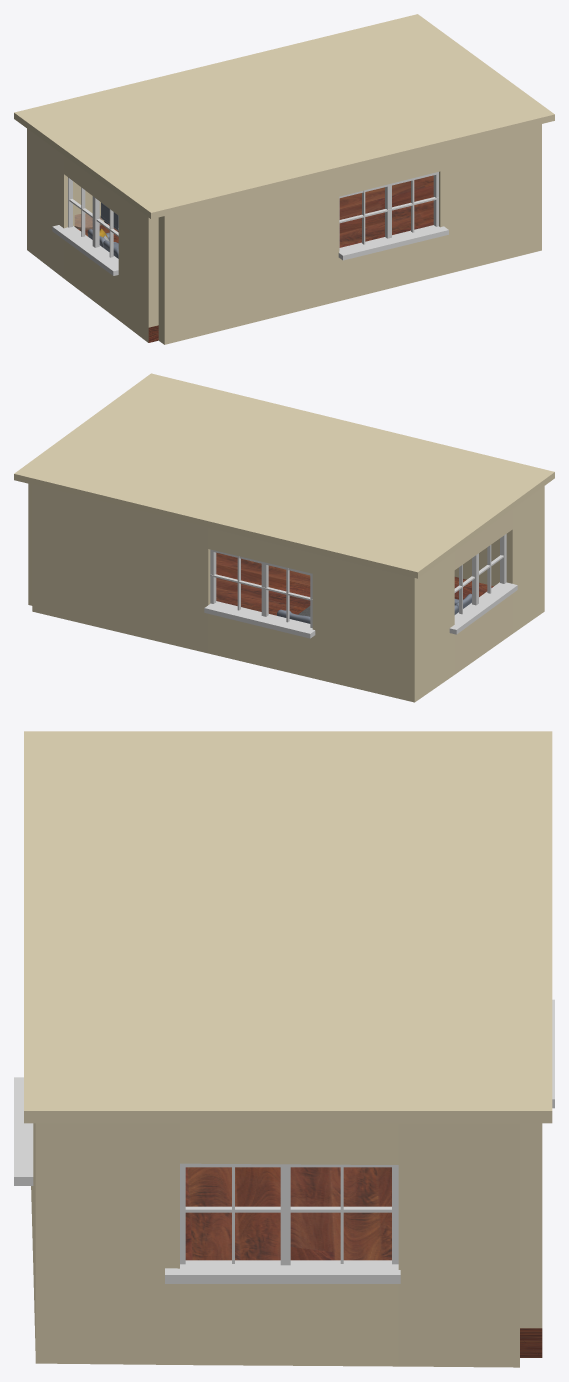
File: simple-room_01.glb
3 views of the same model, one above another, from view 1: azimuth 30°, elevation 25°; view 2: azimuth 150°, elevation 25°; view 3: azimuth 270°, elevation 25° (orthographic). The views are drawn at different scales.
Visible parts, largest first — view 1: Cube, Cube.010, Cube.006; view 2: Cube.006, Cube, Cube.010; view 3: Cube, Cube.010, Cube.006.
Part boxes in pixels (x1,y1,x2,y2): Cube: [14, 14, 554, 219]; Cube.010: [158, 124, 541, 344]; Cube.006: [27, 128, 433, 342]; Cube.006: [32, 484, 544, 702]; Cube: [14, 373, 554, 578]; Cube.010: [28, 483, 499, 605]; Cube: [24, 731, 552, 1123]; Cube.010: [14, 1077, 519, 1367]; Cube.006: [185, 999, 554, 1357].
Size of the model in its own units: 55.05 by 17.69 by 33.13.
Materials: 10 (6 with a texture image).
